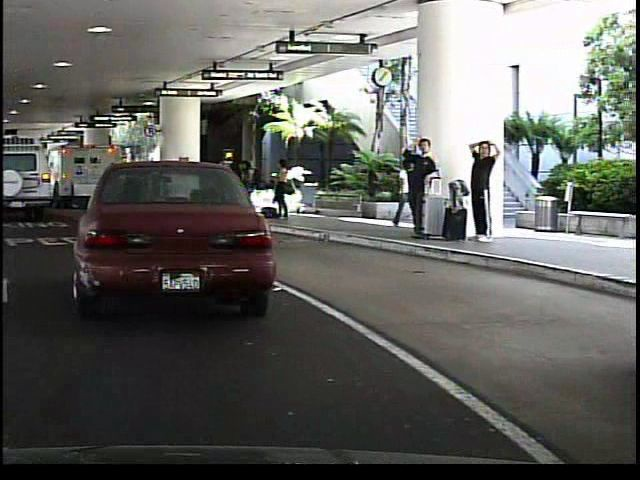person: (397, 134, 439, 241), (463, 131, 501, 241), (268, 158, 294, 224), (392, 154, 414, 230)
